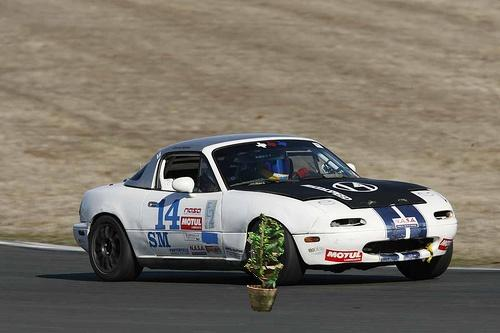tampered: (245, 214, 284, 312)
